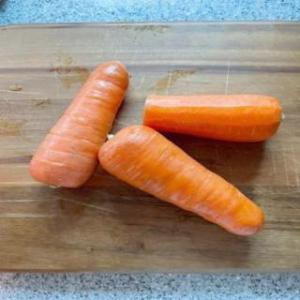carrot: (92, 123, 268, 240), (23, 57, 127, 195), (140, 94, 286, 144)
